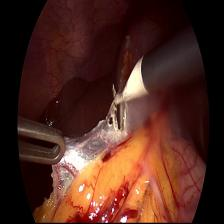Grasper: (12, 114, 70, 172)
Hook: (104, 52, 149, 106)
